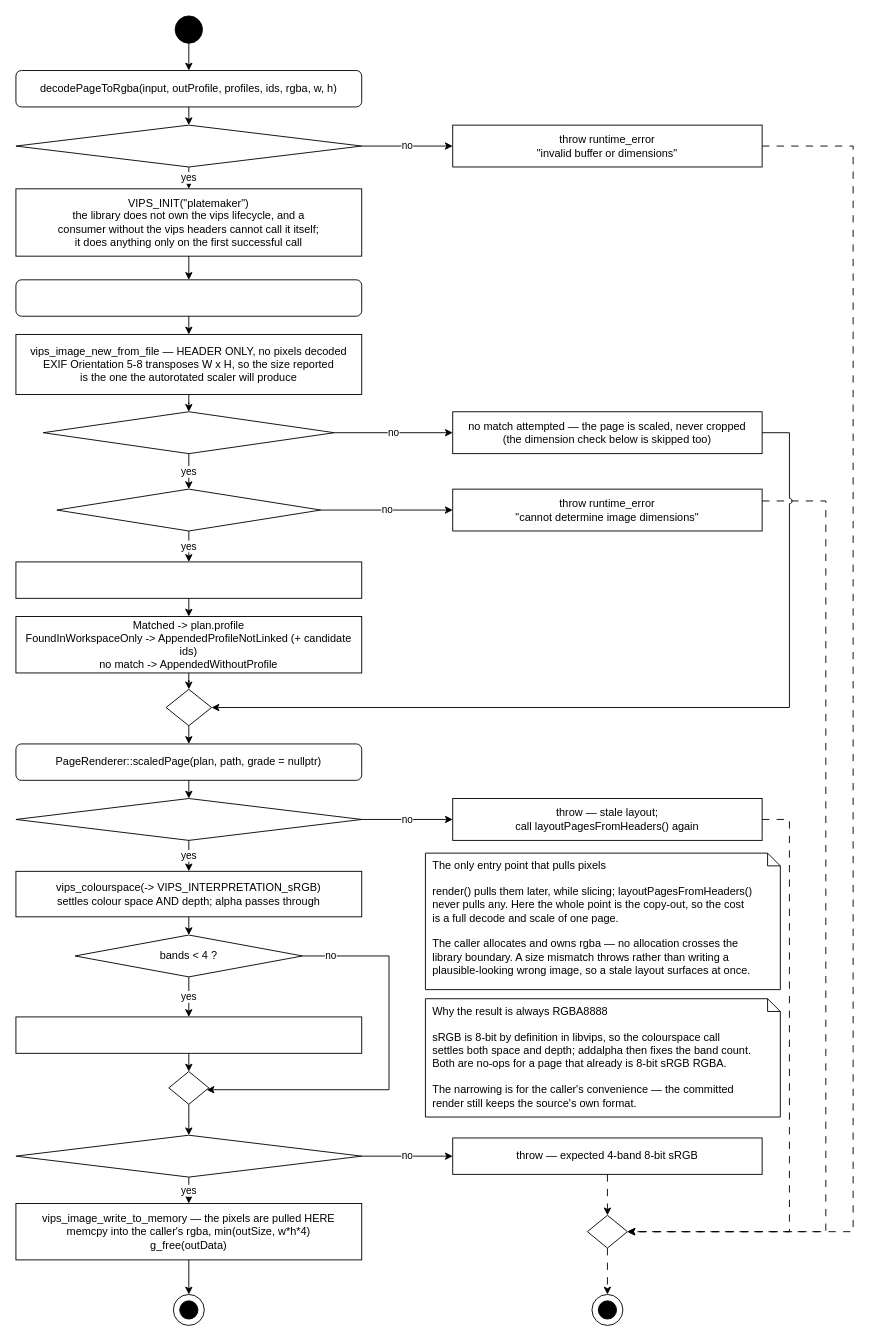
The diagram is 876 pixels wide and 1341 high, and some of its shapes have lost their labels. Here are the shapes that lost their labels. From the top down, the centre of each, then its label:
At (188,145): "rgba non-null AND width > 0 AND height > 0 ?".
At (188,297): "PageRenderer::planFromHeader(path)".
At (188,432): "workspace has canvas profiles?".
At (188,509): "width > 0 and height > 0 ?".
At (188,579): "CanvasProfileMatcher::resolveForSize(width, height)".
At (188,819): "scaled size == the requested width x height ?".
At (188,1034): "vips_addalpha — make a 1- or 3-band page opaque 4-band".
At (188,1155): "4 bands AND VIPS_FORMAT_UCHAR ?".
